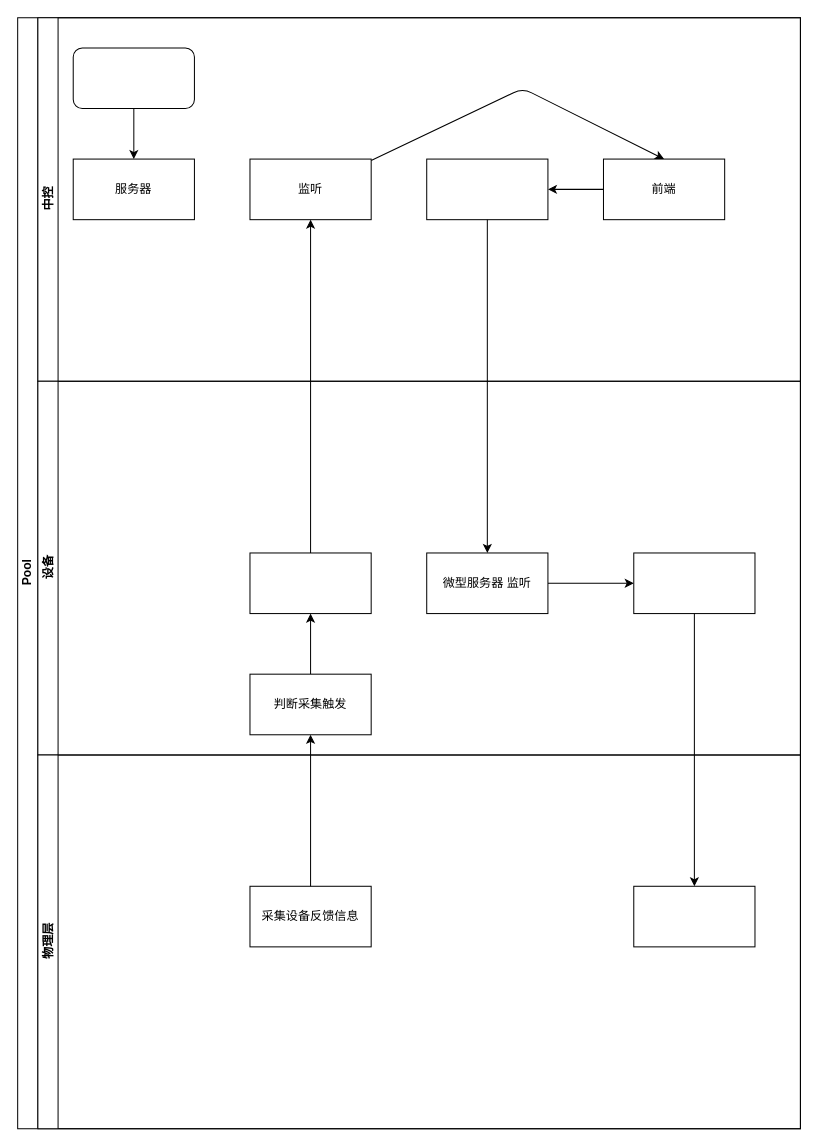
The diagram is 818 pixels wide and 1146 high, and some of its shapes have lost their labels. The centre of each missing label's shape, as x and y in pixels:
"post" belongs at point 310,583.
"process" belongs at point 694,583.
"后台" belongs at point 133,78.
"处理任务" belongs at point 694,916.
"派遣" belongs at point 487,189.
